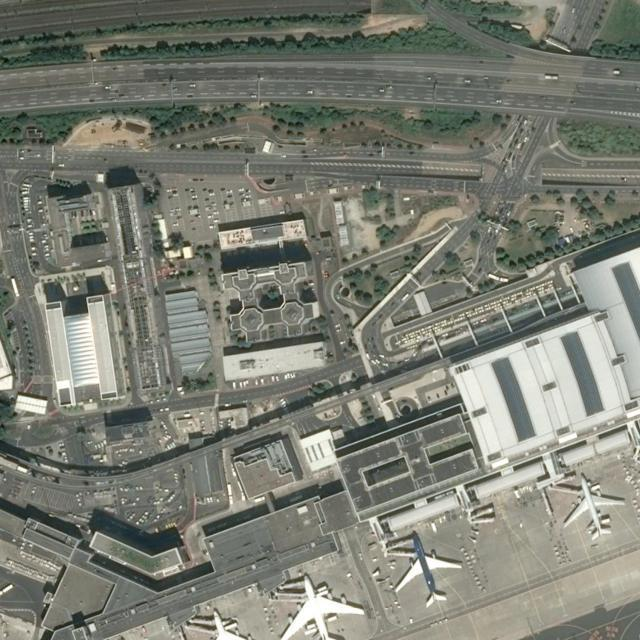Aircraft: (277, 576, 363, 640), (391, 536, 462, 608), (562, 475, 622, 540), (196, 611, 264, 639)
